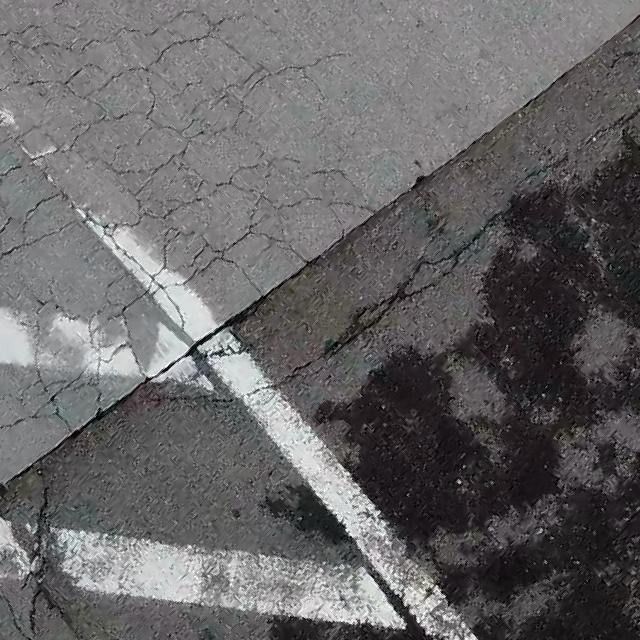GRIETA: (142, 103, 639, 405), (385, 14, 639, 209), (304, 52, 354, 67)
PARCHE: (317, 348, 550, 540), (477, 146, 639, 418), (481, 475, 639, 639)
PIEL DE COCODRILO: (0, 0, 382, 441), (0, 435, 101, 639)
